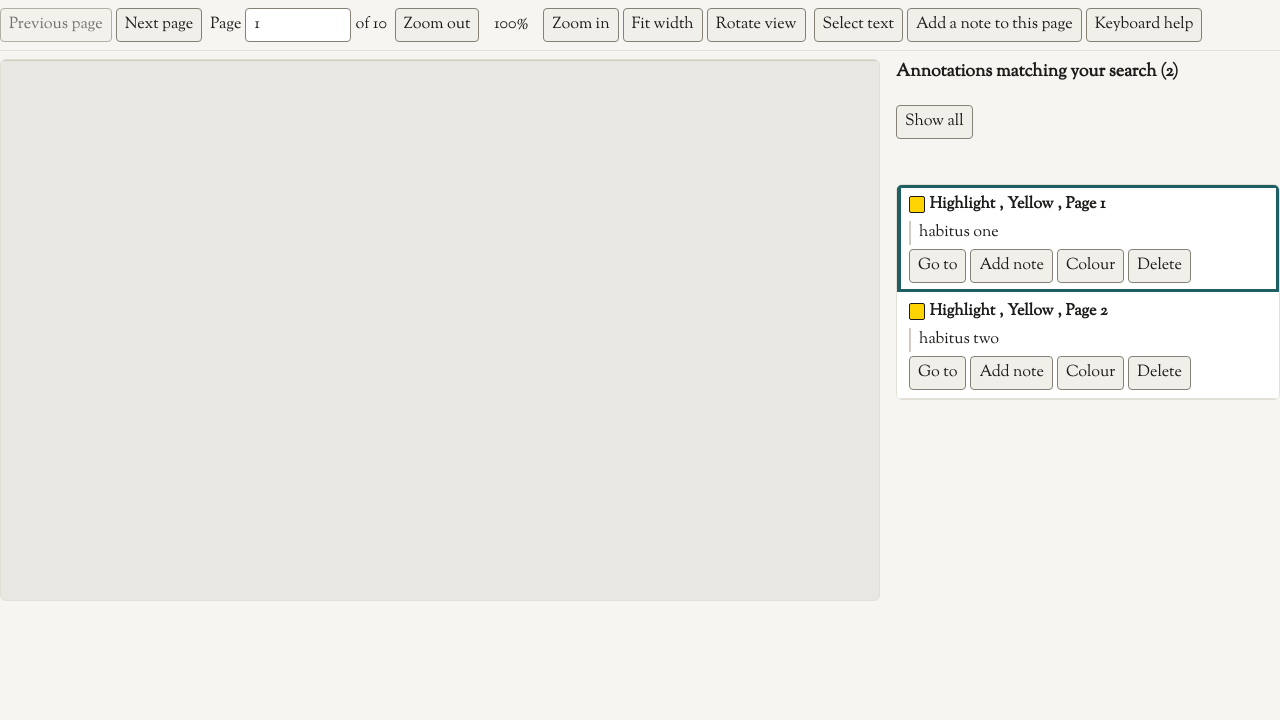
Test case: the reader opened from a search hit (Task R12) › a delete made while filtered behaves as unfiltered
Expected: the element "Annotations matching your search (2)" is shown, x1=896 y1=59 x2=1279 y2=400
Click the button "Delete" below "Page 1".
click(1160, 266)  # box x1=1128 y1=248 x2=1191 y2=282
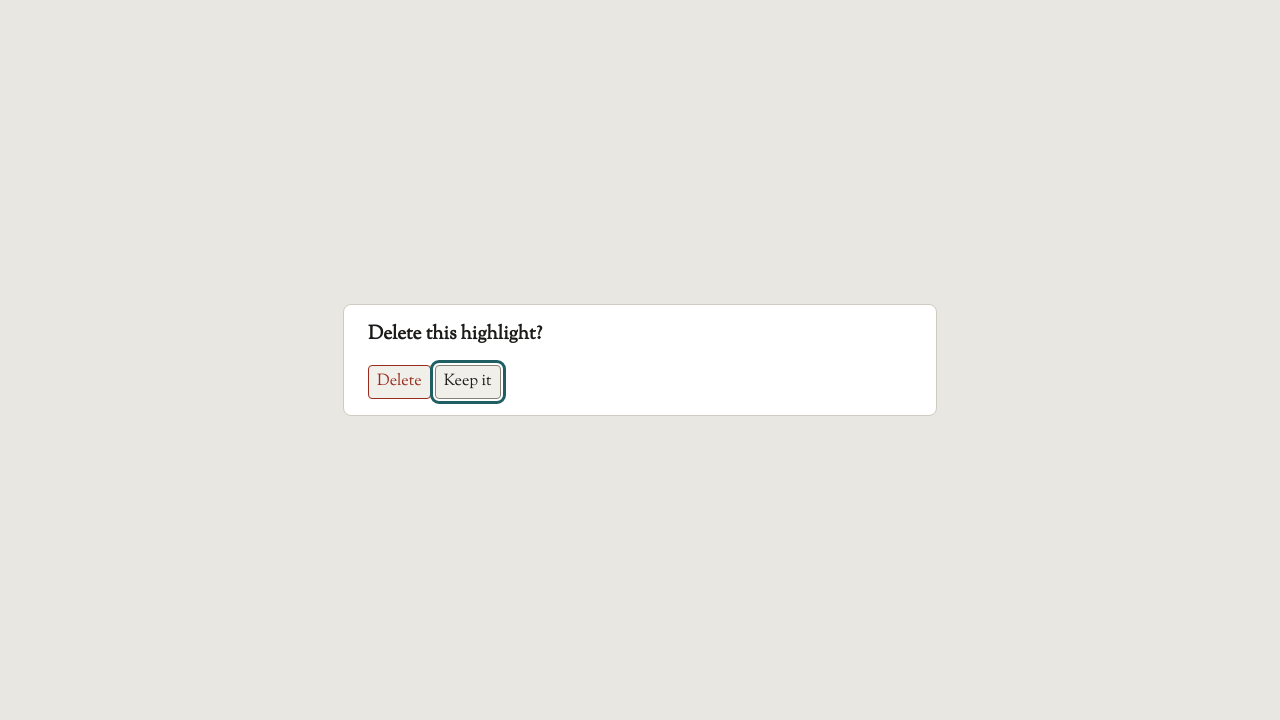
Click the button "Delete".
click(399, 382)  # box x1=368 y1=365 x2=431 y2=399
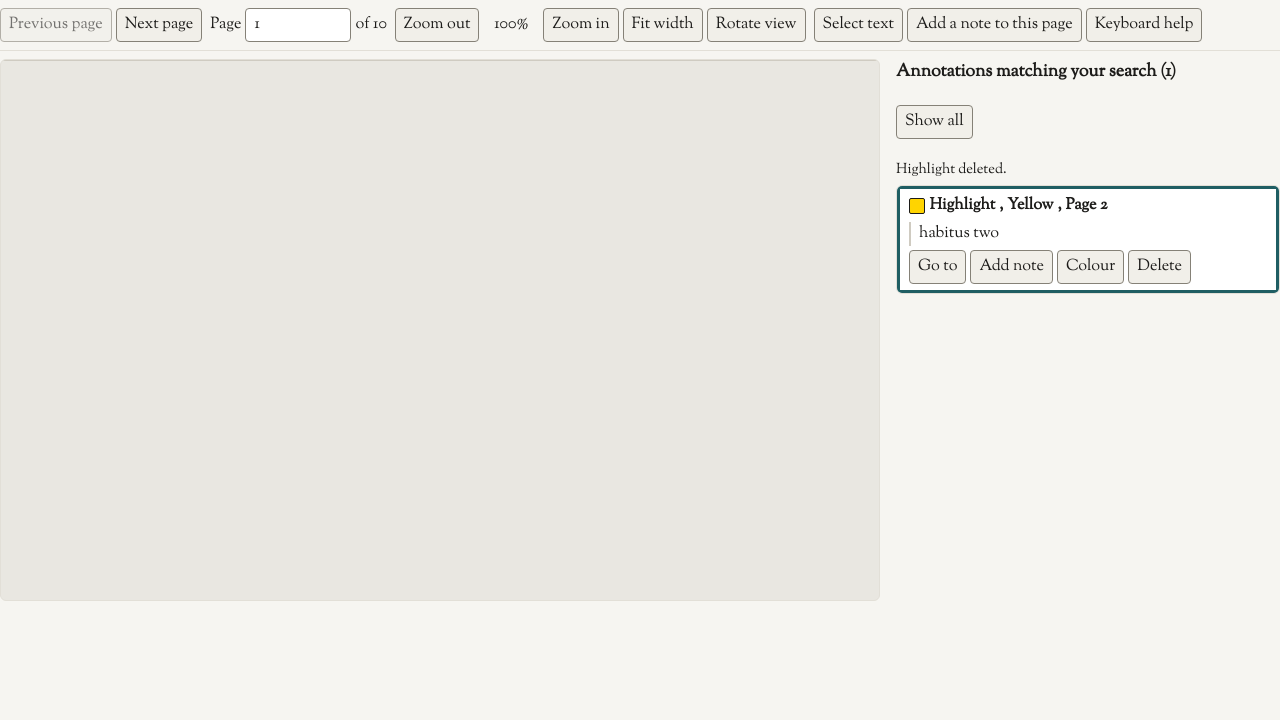
Expected: the element "Annotations matching your search (1)" is shown, x1=896 y1=59 x2=1279 y2=294
